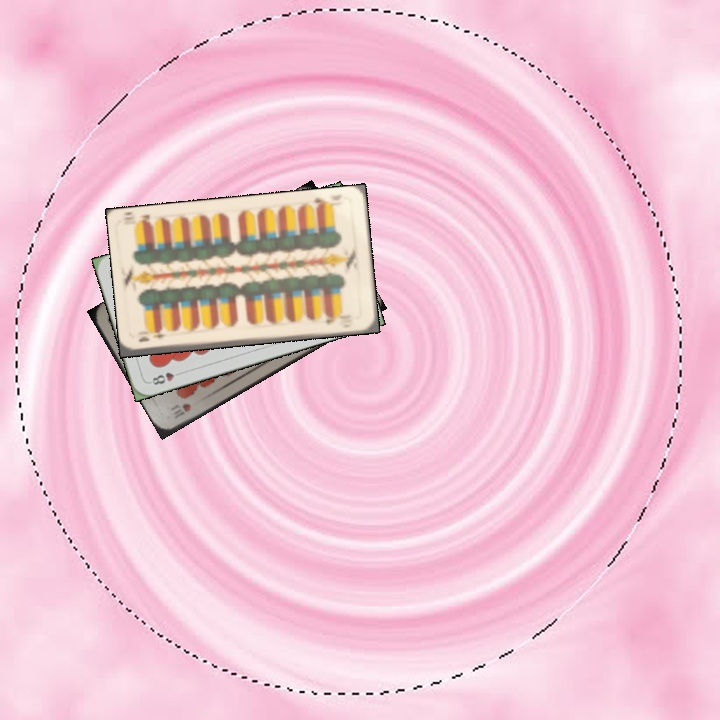E10: (134, 330, 169, 344), (309, 193, 332, 212)
H10: (169, 399, 194, 421)
H8: (146, 367, 185, 387)
